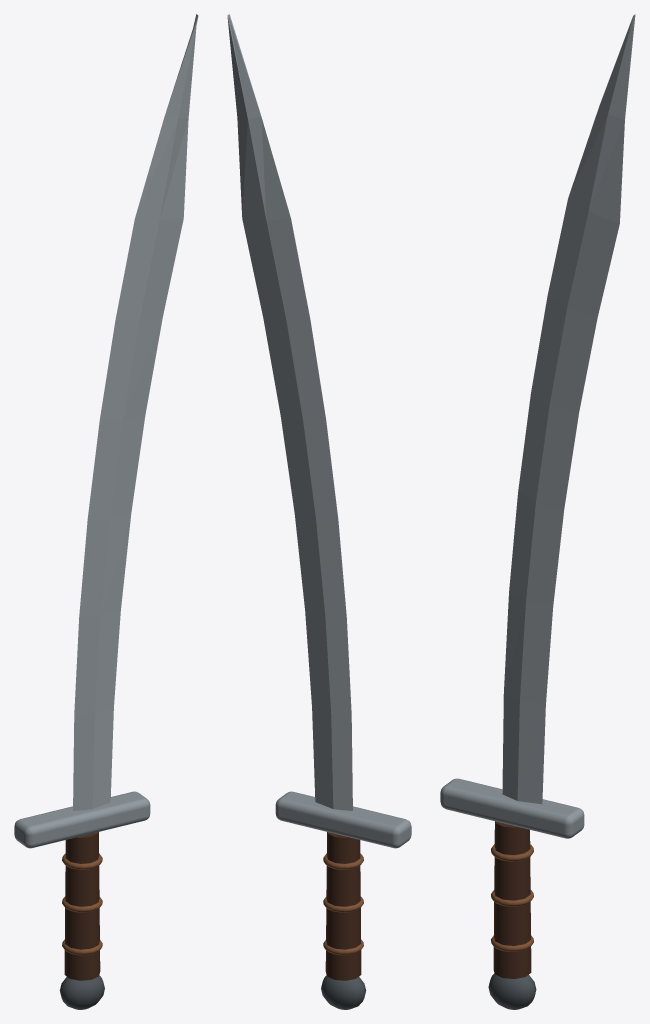
Rendered from scimitar.glb.
3 renders of one model, left to right at view 1: azimuth 30°, elevation 25°; view 2: azimuth 150°, elevation 25°; view 3: azimuth 330°, elevation 25°, orthographic. The views are drawn at different scales.
Parts seen in each view (by area): view 1: scimitar-blade, scimitar-grip, scimitar-crossguard, scimitar-pommel; view 2: scimitar-blade, scimitar-grip, scimitar-crossguard, scimitar-pommel; view 3: scimitar-blade, scimitar-grip, scimitar-crossguard, scimitar-pommel.
Part boxes in pixels (left/top/right/bottom): scimitar-blade: left=73, top=14, right=198, bottom=810; scimitar-grip: left=64, top=832, right=100, bottom=980; scimitar-crossguard: left=14, top=791, right=150, bottom=848; scimitar-pommel: left=59, top=975, right=104, bottom=1009; scimitar-blade: left=227, top=14, right=352, bottom=810; scimitar-grip: left=325, top=832, right=361, bottom=980; scimitar-crossguard: left=275, top=791, right=411, bottom=848; scimitar-pommel: left=321, top=975, right=366, bottom=1009; scimitar-blade: left=502, top=14, right=635, bottom=804; scimitar-grip: left=493, top=821, right=531, bottom=978; scimitar-crossguard: left=440, top=778, right=584, bottom=838; scimitar-pommel: left=488, top=973, right=536, bottom=1009.
Size of the model in its own units: 0.1322 by 0.686 by 0.0266.
